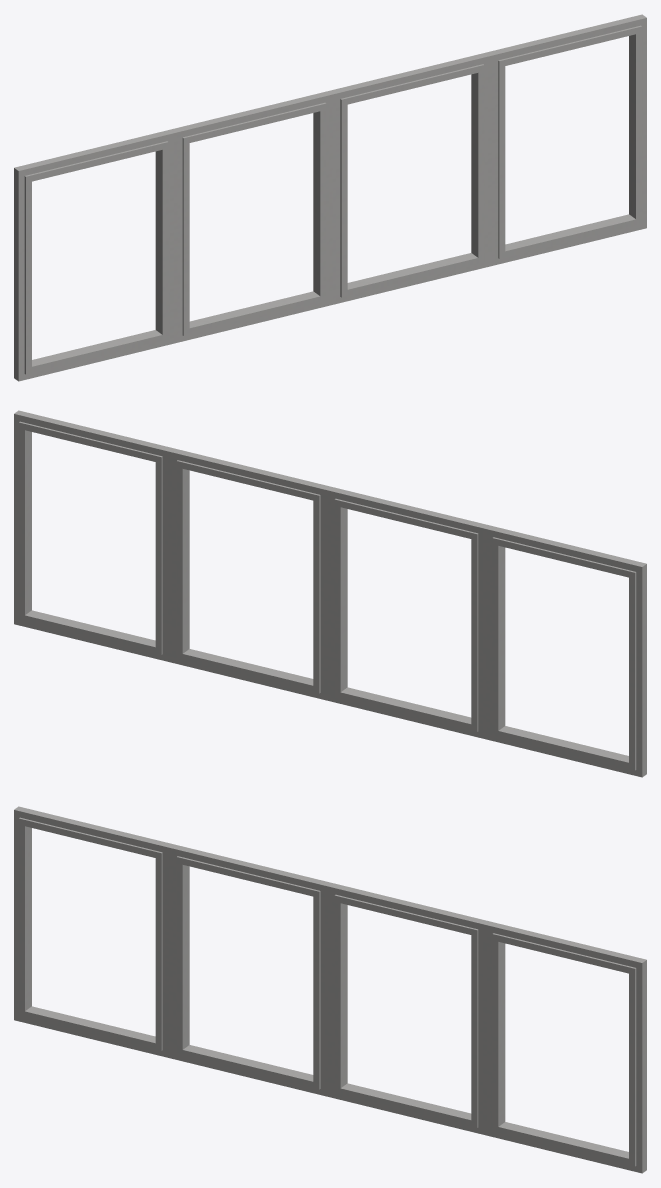
3 renders of one model, top to bottom at view 1: azimuth 30°, elevation 25°; view 2: azimuth 150°, elevation 25°; view 3: azimuth 330°, elevation 25°, orthographic.
Parts seen in each view (by area): view 1: okna; view 2: okna; view 3: okna.
Boxes of the visible parts, x1,y1,x2,y2 form: okna: [14, 14, 646, 381]; okna: [14, 410, 646, 777]; okna: [14, 806, 646, 1173].
Bounding box in the file's own units: 6.25 × 0.12 × 2.
